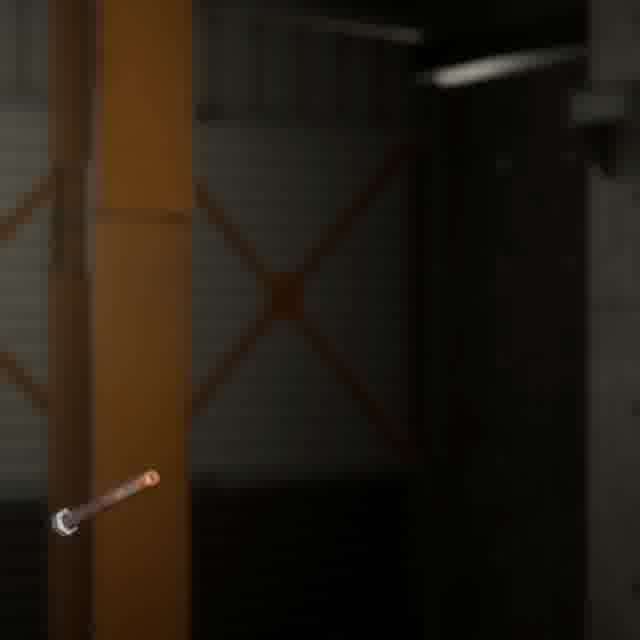bolt: (47, 465, 163, 541)
